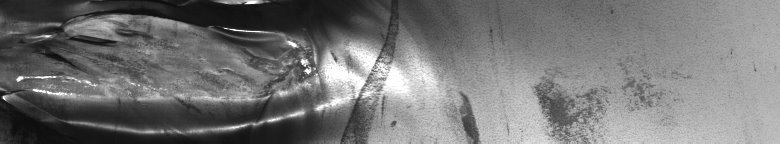ke: (4, 4, 398, 136)
